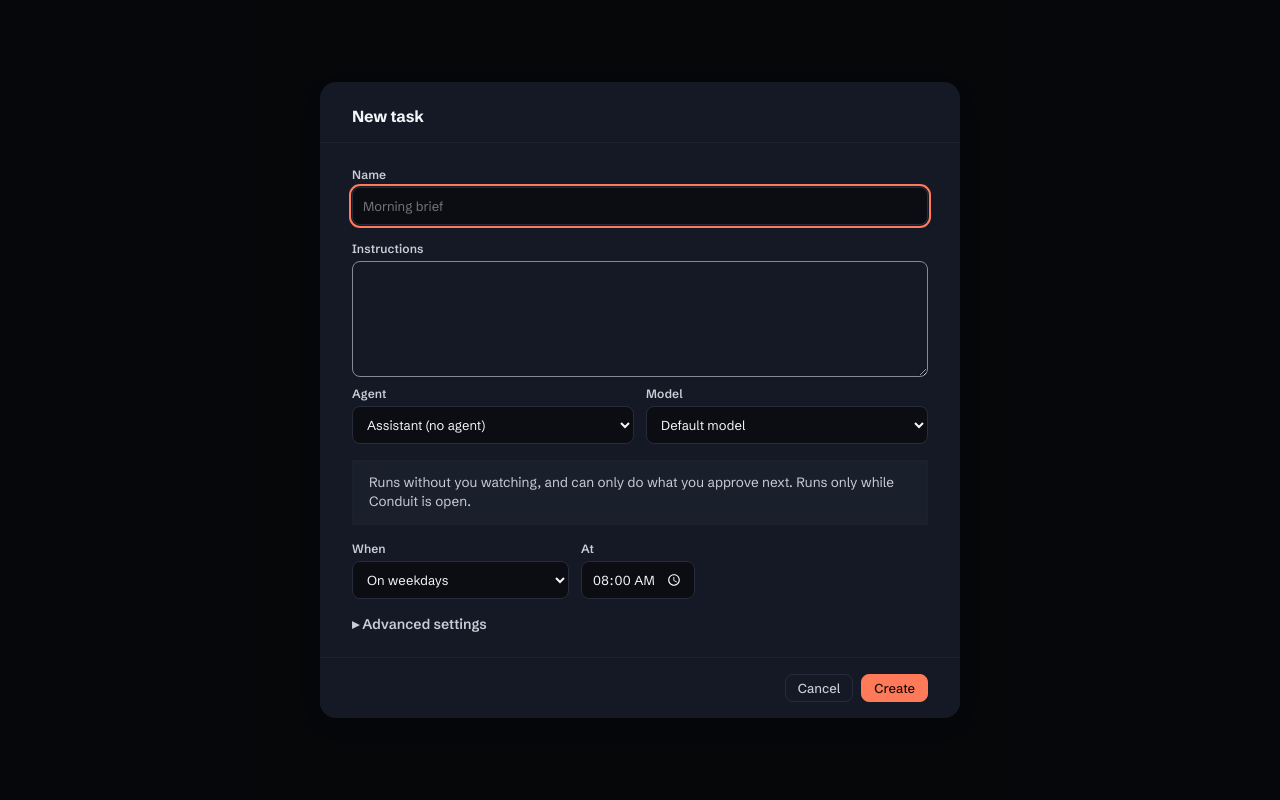
TaskDialog › asks for instructions when they are empty
Click the button "Create": (895, 688) top-left (861, 674), bottom-right (928, 702)
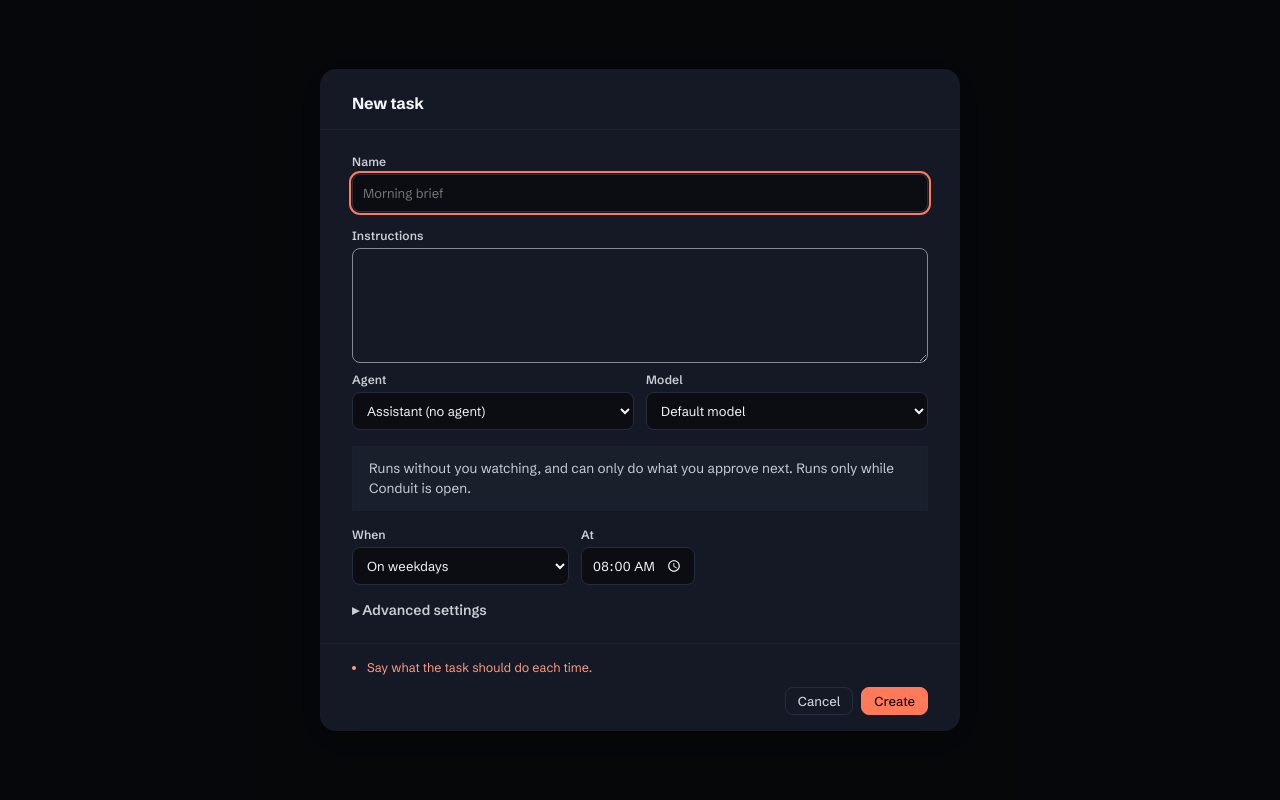
Expected: the list item "Say what the task should do each time." is shown, top-left (367, 660), bottom-right (592, 675)
